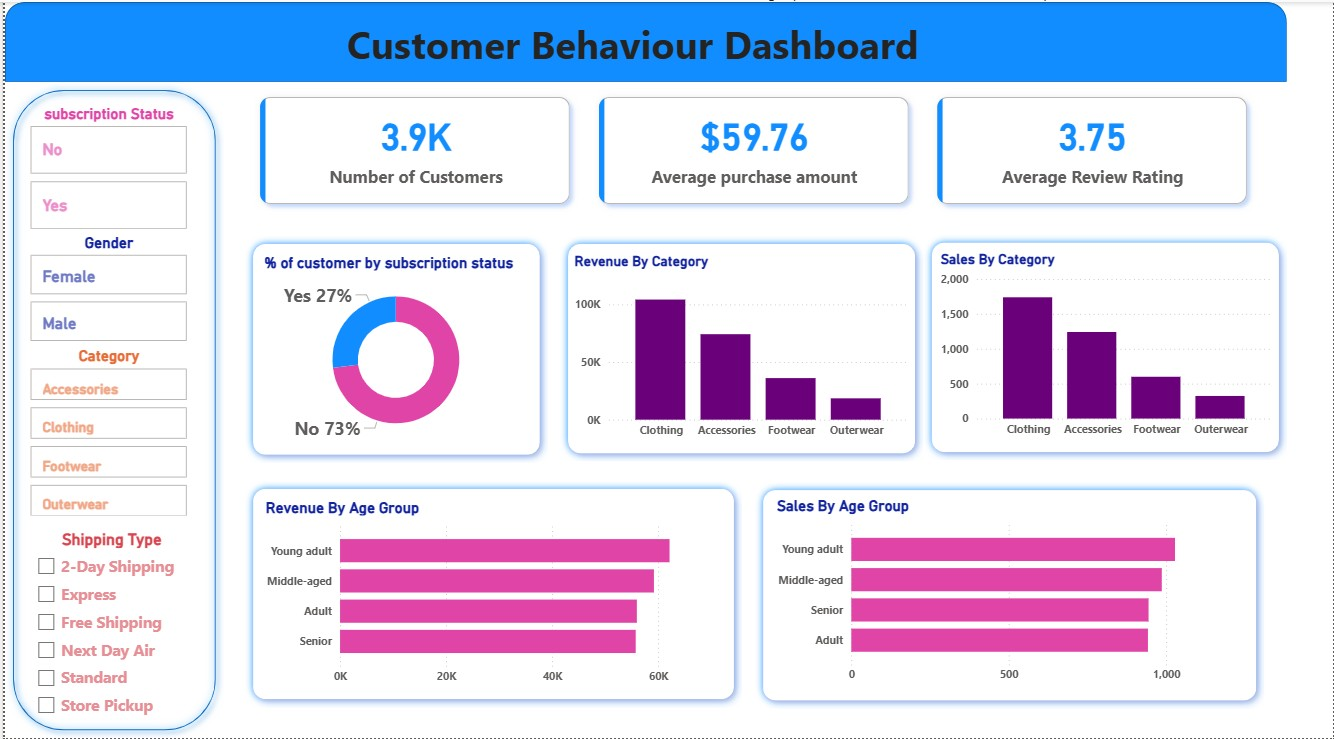

What the dashboard file says about the page in this screenshot:
{"tool":"powerbi","page":{"name":"Page 1","canvas":[1480,820],"ordinal":0},"visuals":[{"type":"cardVisual","fields":{"Data":["public customer.Number of Customers","public customer.Average purchase amount","public customer.Average Review Rating"]},"box":[267.2,89.1,1134.4,153.1],"z":0},{"type":"shape","box":[0,0,1428.1,89.1],"z":1000},{"type":"textbox","box":[0,12.5,1281.2,76.6],"z":2000},{"type":"shape","box":[618.8,260.9,404.7,251.6],"z":3000},{"type":"shape","box":[267.2,260.9,337.5,253.1],"z":4000},{"type":"donutChart","title":"% of customer by subscription status","fields":{"Category":["public customer.subscription_status"],"Y":["CountNonNull(public customer.customer_id)"]},"box":[284.4,279.7,303.1,218.8],"z":5000},{"type":"shape","box":[1023.4,259.4,404.7,251.6],"z":6000},{"type":"clusteredColumnChart","title":"Revenue By Category","fields":{"Y":["Sum(public customer.purchase_amount)"],"Category":["public customer.category"]},"box":[629.7,279.7,382.8,215.6],"z":7000},{"type":"clusteredColumnChart","title":"Sales By Category","fields":{"Y":["CountNonNull(public customer.customer_id)"],"Category":["public customer.category"]},"box":[1037.5,276.6,379.7,217.2],"z":8000},{"type":"shape","box":[0,89.1,243.8,731.2],"z":9000},{"type":"advancedSlicerVisual","title":"subscription Status","fields":{"Values":["public customer.subscription_status"]},"box":[23.4,114.1,184.4,143.8],"z":10000},{"type":"advancedSlicerVisual","title":"Gender","fields":{"Values":["public customer.gender"]},"box":[23.4,257.8,184.4,126.6],"z":11000},{"type":"advancedSlicerVisual","title":"Category","fields":{"Values":["public customer.category"]},"box":[23.4,384.4,184.4,193.8],"z":12000},{"type":"slicer","title":"Shipping Type","fields":{"Values":["public customer.shipping_type"]},"box":[23.7,587.7,190.8,215.9],"z":13000},{"type":"shape","box":[267.5,533.8,553.8,252.5],"z":14000},{"type":"clusteredBarChart","title":"Revenue By Age Group","fields":{"Y":["Sum(public customer.purchase_amount)"],"Category":["public customer.age_group"]},"box":[285,552.5,517.5,216.2],"z":15000},{"type":"shape","box":[835,535,567.5,252.5],"z":15001},{"type":"clusteredBarChart","title":"Sales By Age Group","fields":{"Category":["public customer.age_group"],"Y":["CountNonNull(public customer.customer_id)"]},"box":[855,551.2,530,216.2],"z":15002}]}

Visuals, with their boxes in screenshot pixels (x1, y1, x2, y2), scaled from the page's 1480x820 canvas onto the 1334x739 screenshot:
cardVisual - public customer.Number of Customers x public customer.Average purchase amount: (left=241, top=80, right=1263, bottom=218)
shape: (left=0, top=0, right=1287, bottom=80)
textbox: (left=0, top=11, right=1155, bottom=80)
shape: (left=558, top=235, right=923, bottom=462)
shape: (left=241, top=235, right=545, bottom=463)
"% of customer by subscription status" donutChart: (left=256, top=252, right=530, bottom=449)
shape: (left=922, top=234, right=1287, bottom=461)
"Revenue By Category" clusteredColumnChart: (left=568, top=252, right=913, bottom=446)
"Sales By Category" clusteredColumnChart: (left=935, top=249, right=1277, bottom=445)
shape: (left=0, top=80, right=220, bottom=738)
"subscription Status" advancedSlicerVisual: (left=21, top=103, right=187, bottom=232)
"Gender" advancedSlicerVisual: (left=21, top=232, right=187, bottom=346)
"Category" advancedSlicerVisual: (left=21, top=346, right=187, bottom=521)
"Shipping Type" slicer: (left=21, top=530, right=193, bottom=724)
shape: (left=241, top=481, right=740, bottom=709)
"Revenue By Age Group" clusteredBarChart: (left=257, top=498, right=723, bottom=693)
shape: (left=753, top=482, right=1264, bottom=710)
"Sales By Age Group" clusteredBarChart: (left=771, top=497, right=1248, bottom=692)
